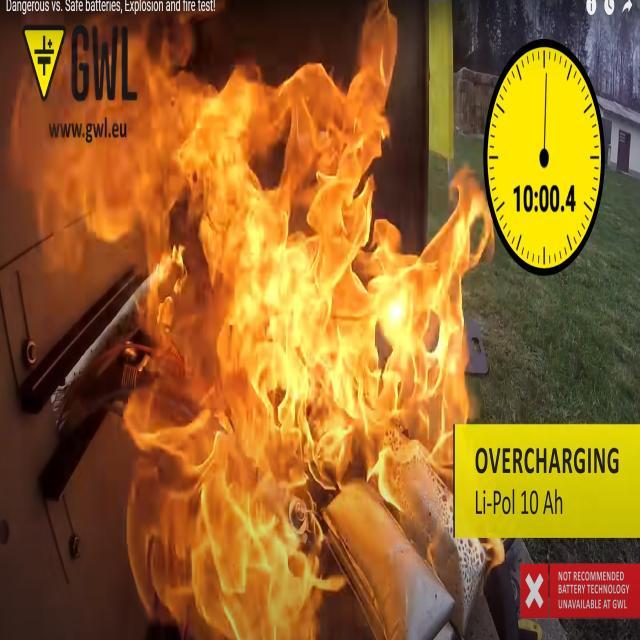Fire: (123, 284, 329, 640), (141, 3, 399, 282), (330, 280, 470, 498), (402, 172, 487, 272)
